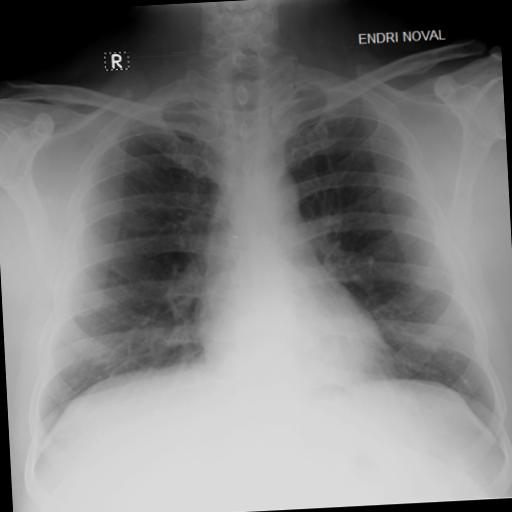normal: (5, 36, 511, 486)
